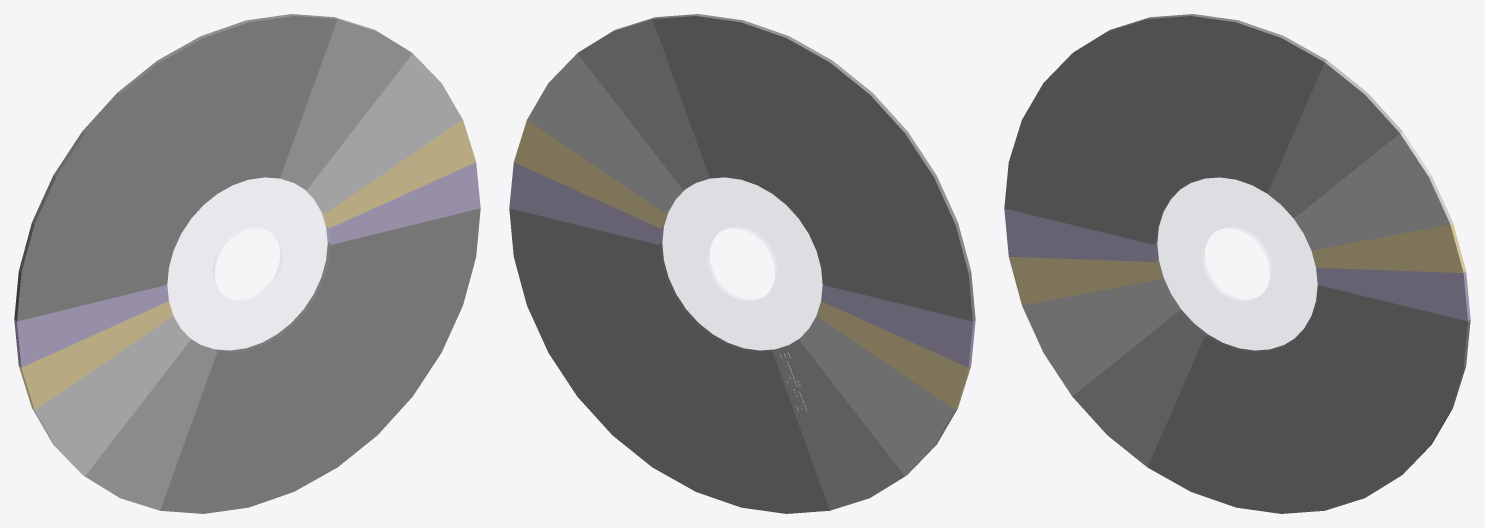
Rendered from optical_disk.fbx.
3 views of the same model, side by side, from view 1: azimuth 30°, elevation 25°; view 2: azimuth 150°, elevation 25°; view 3: azimuth 330°, elevation 25° (orthographic).
Parts seen in each view (by area): view 1: Circle.2552; view 2: Circle.2552; view 3: Circle.2552.
Boxes of the visible parts, x1,y1,x2,y2 form: Circle.2552: (14, 14, 480, 513); Circle.2552: (509, 14, 975, 513); Circle.2552: (1004, 14, 1470, 513).
Size of the model in its own units: 220 by 220 by 2.57.
2 materials, 1 textured.
